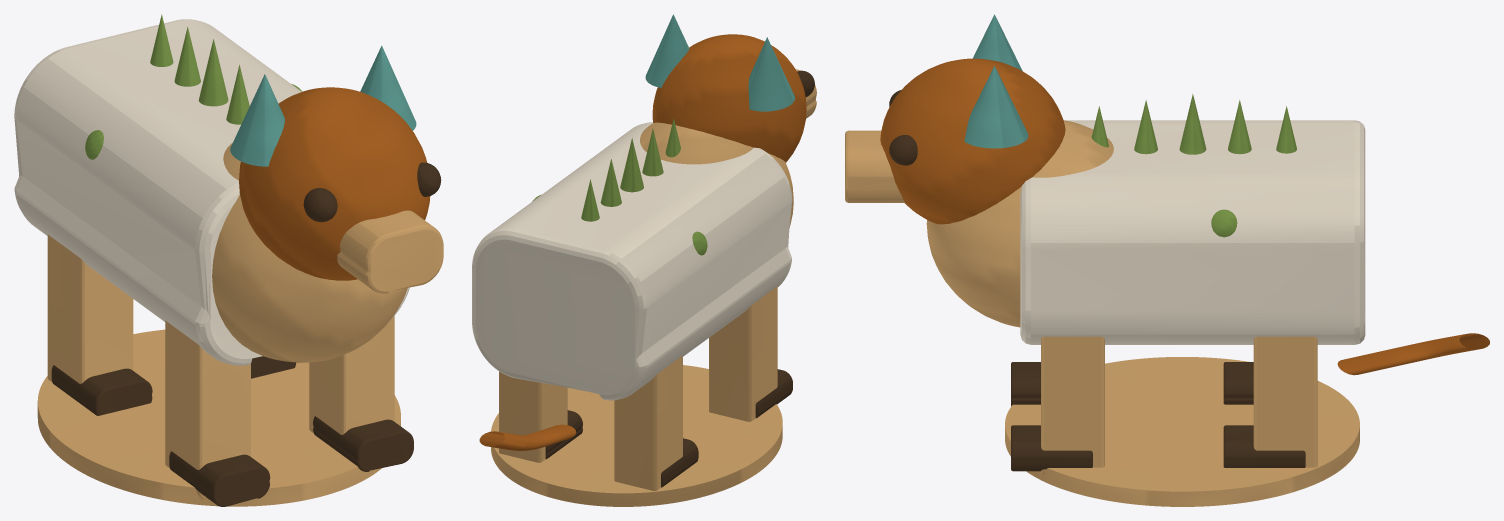
File: 0156_恐龙图鉴_三角龙.glb
3 renders of one model, left to right at view 1: azimuth 30°, elevation 25°; view 2: azimuth 150°, elevation 25°; view 3: azimuth 270°, elevation 25°, orthographic. The views are drawn at different scales.
Visible parts, largest first — view 1: card_0156; view 2: card_0156; view 3: card_0156.
Boxes of the visible parts, box(x1,y1,x2,y2) form: card_0156: box(14, 14, 443, 506); card_0156: box(472, 14, 816, 506); card_0156: box(845, 14, 1489, 506).
Bounding box in the file's own units: 0.7216 × 1 × 1.46.
